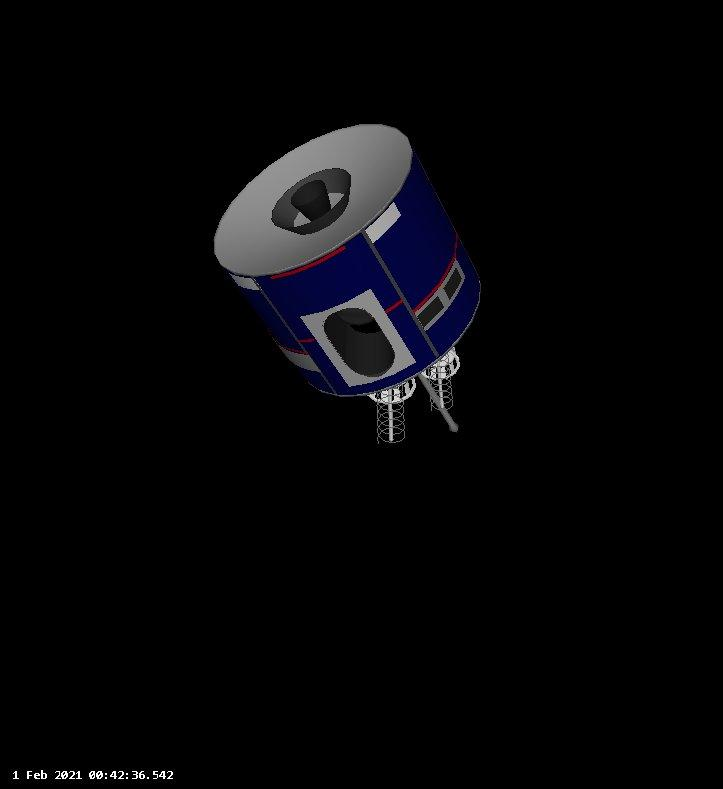antenna: (365, 372, 419, 448), (413, 366, 465, 438), (422, 345, 463, 412)
body: (214, 122, 484, 395)
thruster: (290, 176, 336, 225)
